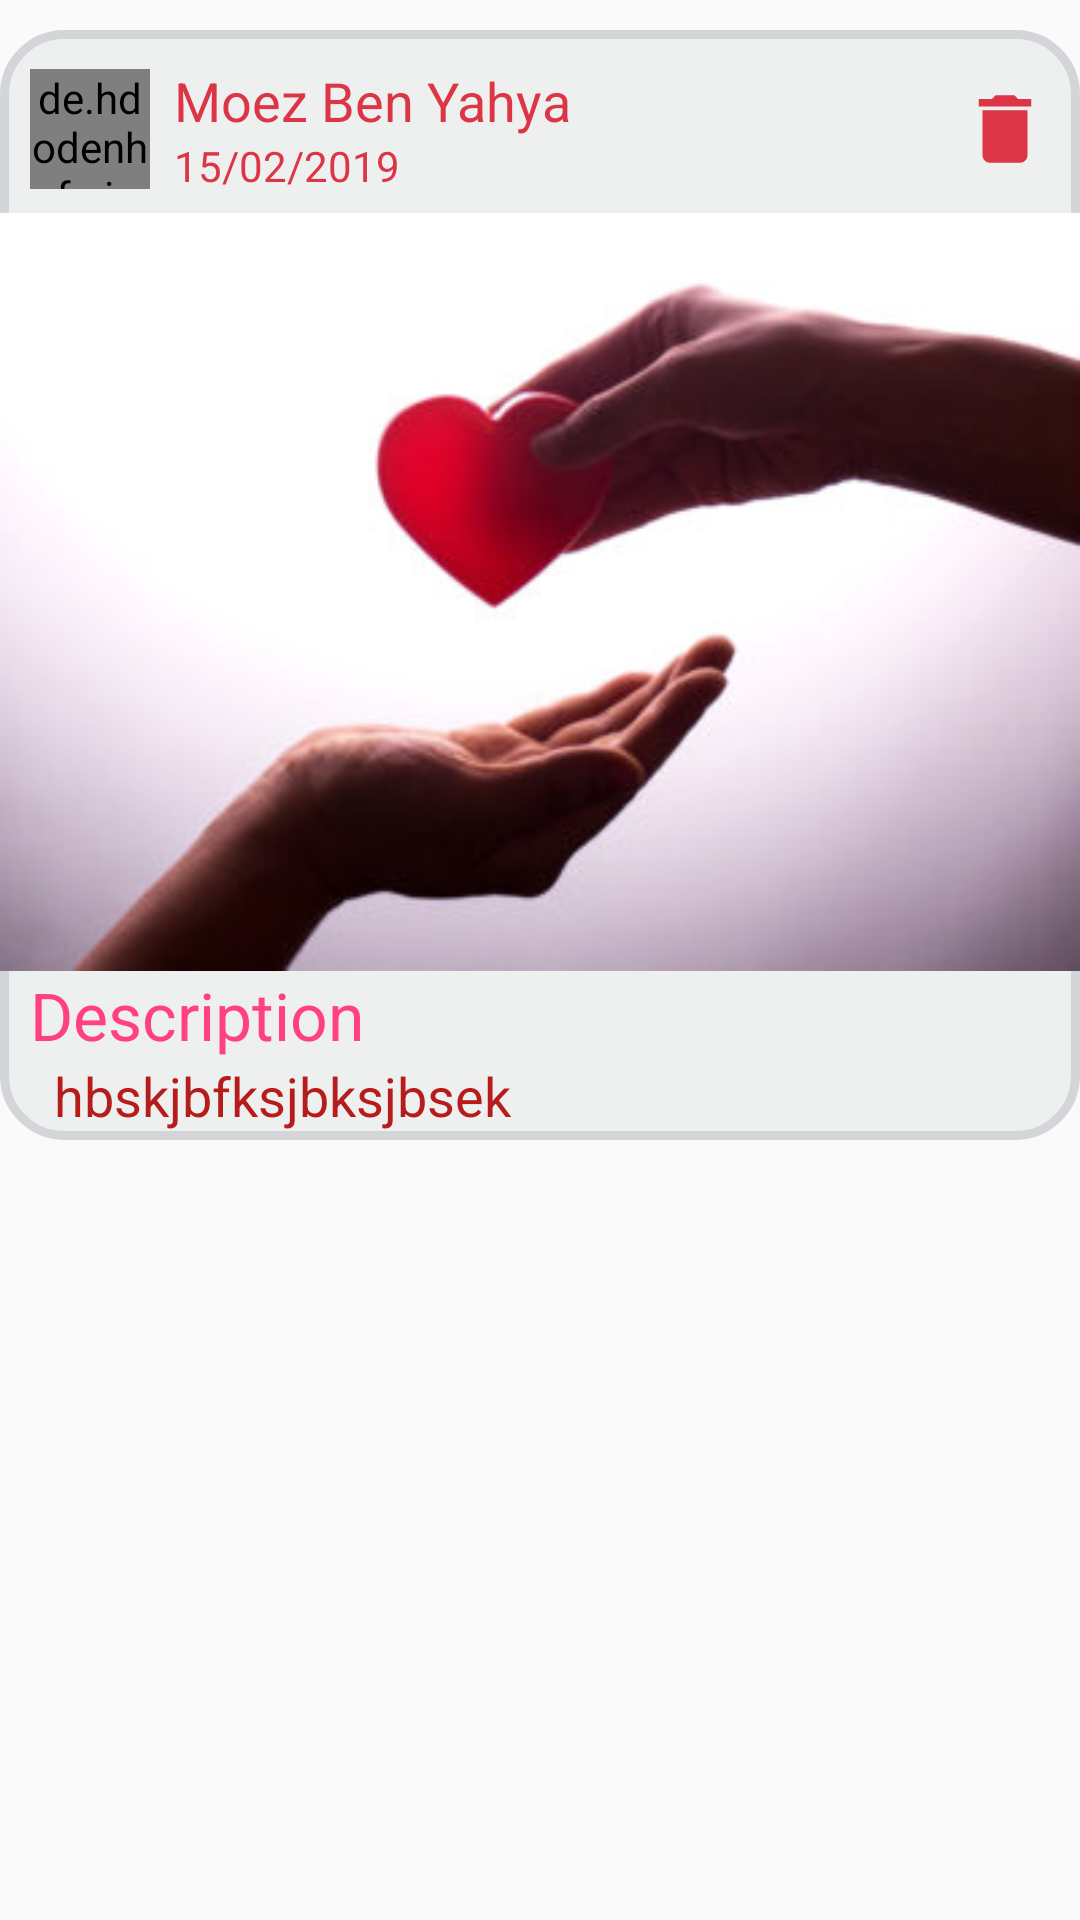

Icons on this 1080 × 1920 Android screen, each with its box as (x1, y1, x2, y2):
delete: (978, 95, 1032, 163)
